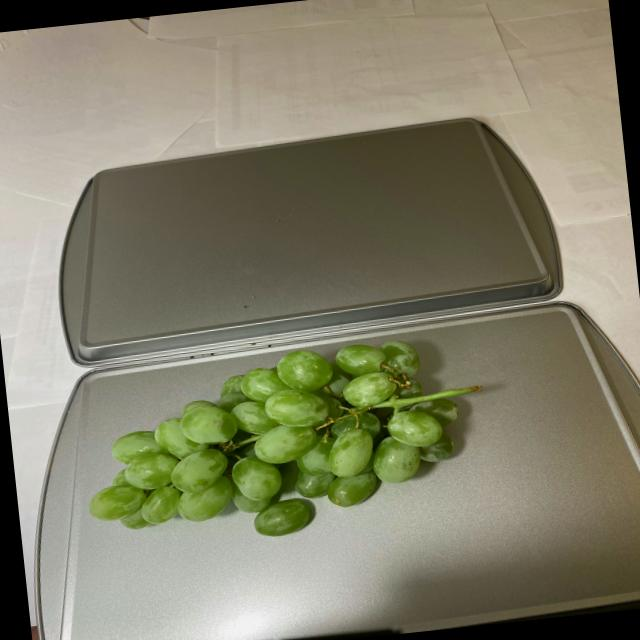grapes: (75, 330, 504, 556)
